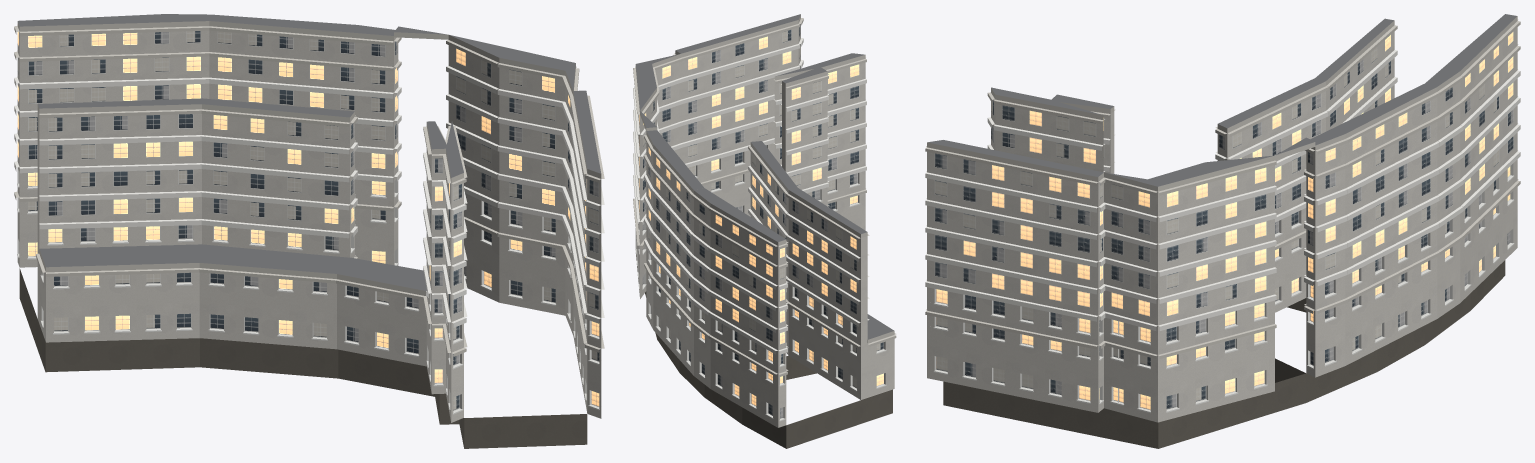
File: z4L_migros_block.glb
The picture shows the model from 3 angles, left to right: view 1: azimuth 30°, elevation 25°; view 2: azimuth 150°, elevation 25°; view 3: azimuth 270°, elevation 25°; orthographic projection. The views are drawn at different scales.
Visible parts, largest first — view 1: z4L_migros_block; view 2: z4L_migros_block; view 3: z4L_migros_block.
Part boxes in pixels (x1,y1,x2,y2): z4L_migros_block: (14, 14, 604, 448); z4L_migros_block: (633, 14, 896, 448); z4L_migros_block: (925, 14, 1520, 448).
Size of the model in its own units: 44.61 by 26.84 by 54.51.
3 materials, 3 textured.
